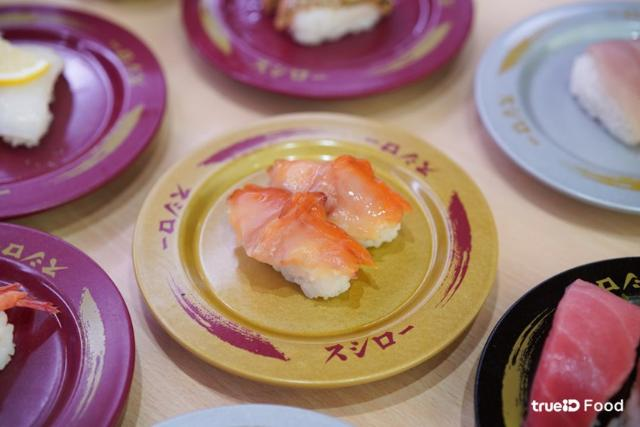janback: (516, 236, 640, 427)
jangold: (148, 116, 475, 376)
janred: (0, 0, 162, 230), (0, 205, 141, 422), (204, 0, 461, 101)
janwhite: (450, 12, 640, 204), (143, 394, 364, 427)
